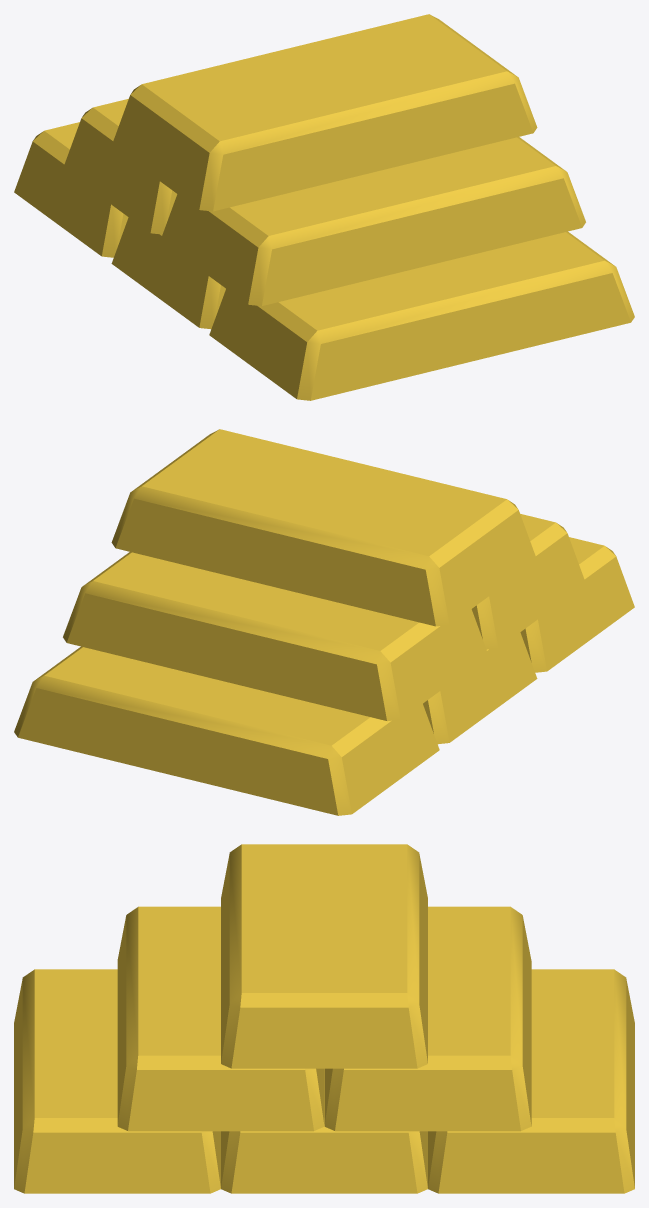
The model's file is GoldbarStackBlockout_RB.fbx.
3 renders of one model, top to bottom at view 1: azimuth 30°, elevation 25°; view 2: azimuth 150°, elevation 25°; view 3: azimuth 270°, elevation 25°, orthographic. The views are drawn at different scales.
Visible parts, largest first — view 1: GoldbarStackBlockout_RB; view 2: GoldbarStackBlockout_RB; view 3: GoldbarStackBlockout_RB.
Boxes of the visible parts, box(x1,y1,x2,y2) form: GoldbarStackBlockout_RB: box(14, 14, 634, 400); GoldbarStackBlockout_RB: box(14, 429, 634, 815); GoldbarStackBlockout_RB: box(14, 844, 634, 1193).
Size of the model in its own units: 1.2 by 0.6 by 1.8.
